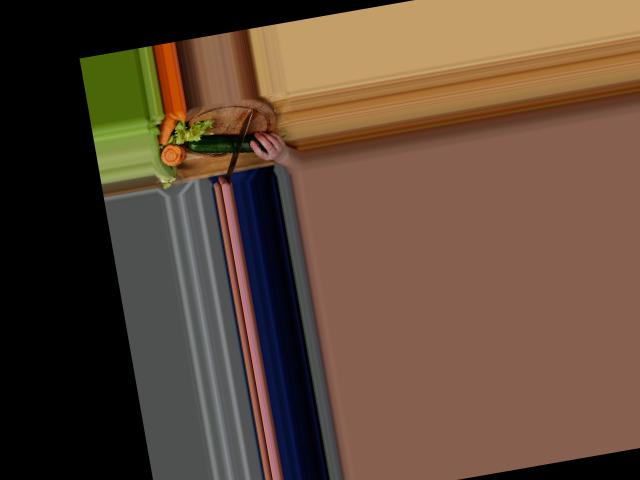cucumber: (185, 126, 265, 163)
